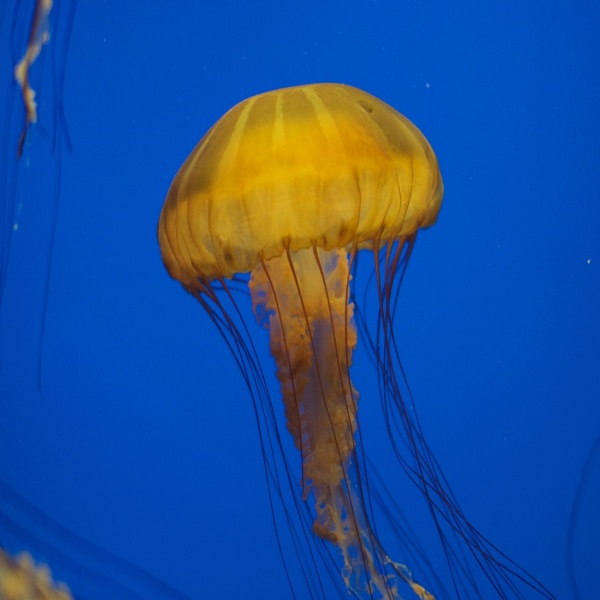Jellyfish: (152, 79, 553, 599)
